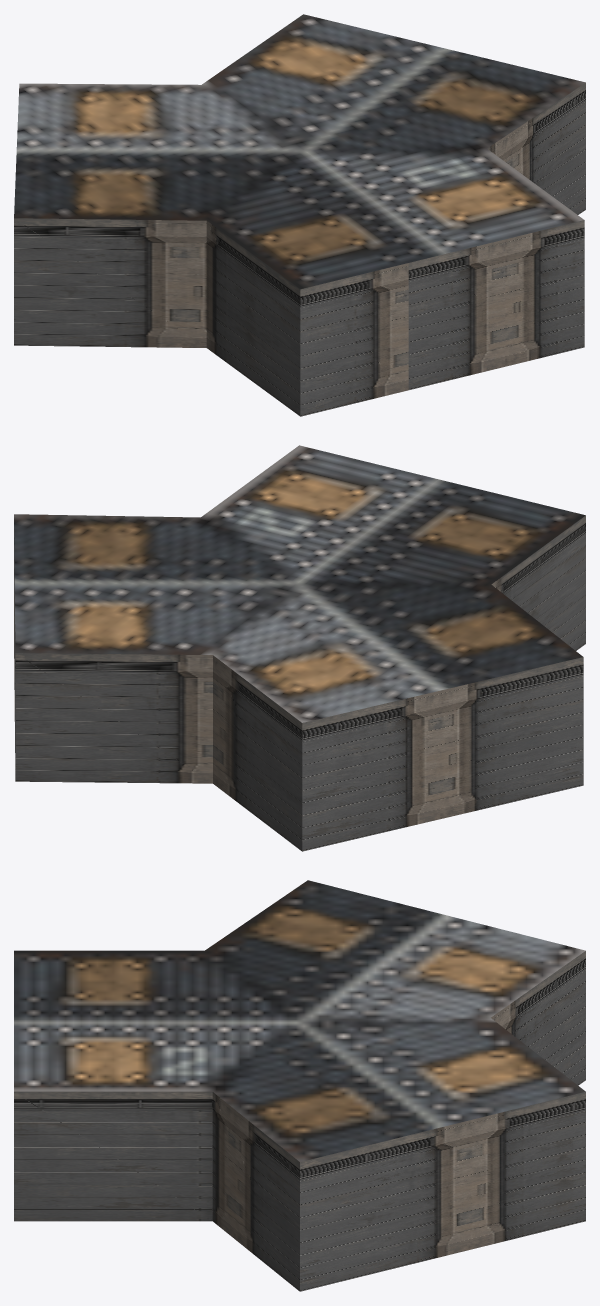
The model's file is hangar_heavy_a_42.glb.
3 renders of one model, top to bottom at view 1: azimuth 30°, elevation 25°; view 2: azimuth 150°, elevation 25°; view 3: azimuth 270°, elevation 25°, orthographic.
Visible parts, largest first — view 1: buildings/saxarba/hangar_heavy/hangar_heavy_a_42; view 2: buildings/saxarba/hangar_heavy/hangar_heavy_a_42; view 3: buildings/saxarba/hangar_heavy/hangar_heavy_a_42.
Part boxes in pixels (<box>): buildings/saxarba/hangar_heavy/hangar_heavy_a_42: <box>14,14,585,416</box>; buildings/saxarba/hangar_heavy/hangar_heavy_a_42: <box>14,445,585,851</box>; buildings/saxarba/hangar_heavy/hangar_heavy_a_42: <box>14,880,585,1291</box>.
Bounding box in the file's own units: 84 × 18 × 72.
